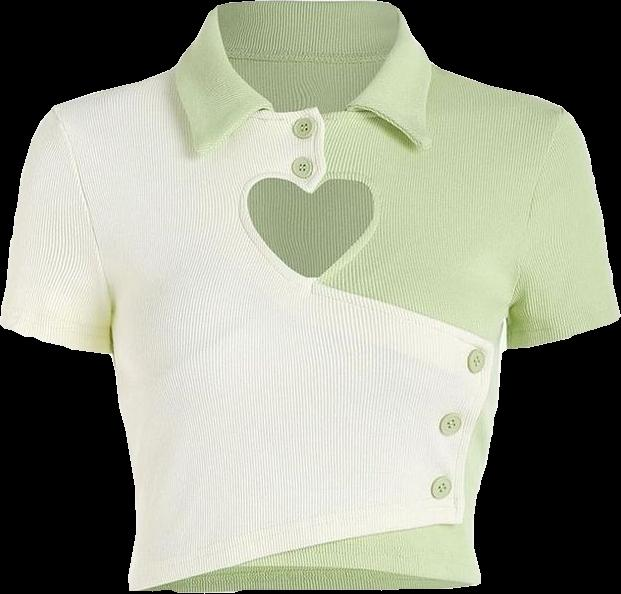Bodice: (0, 0, 619, 592)
Neckline: (129, 110, 504, 593), (214, 4, 404, 117), (313, 173, 380, 283)
Waistline: (128, 577, 486, 593)
